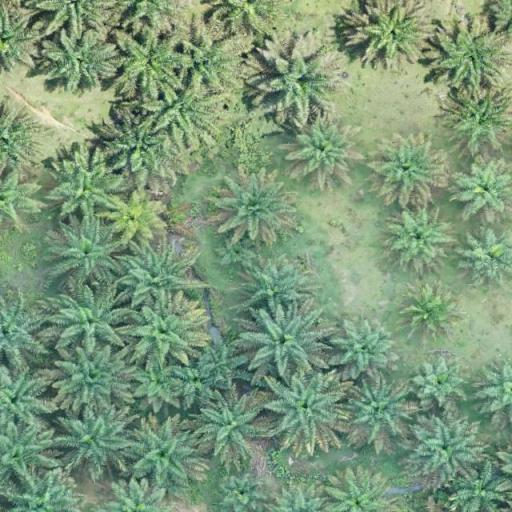Ganoderma: (110, 196, 157, 238)
